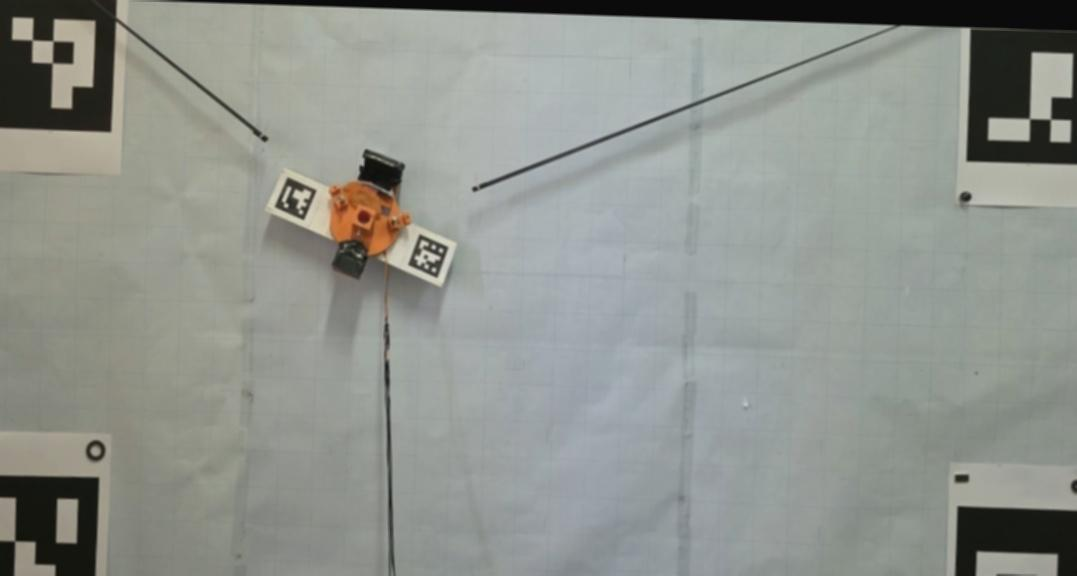robot: (329, 148, 412, 280)
